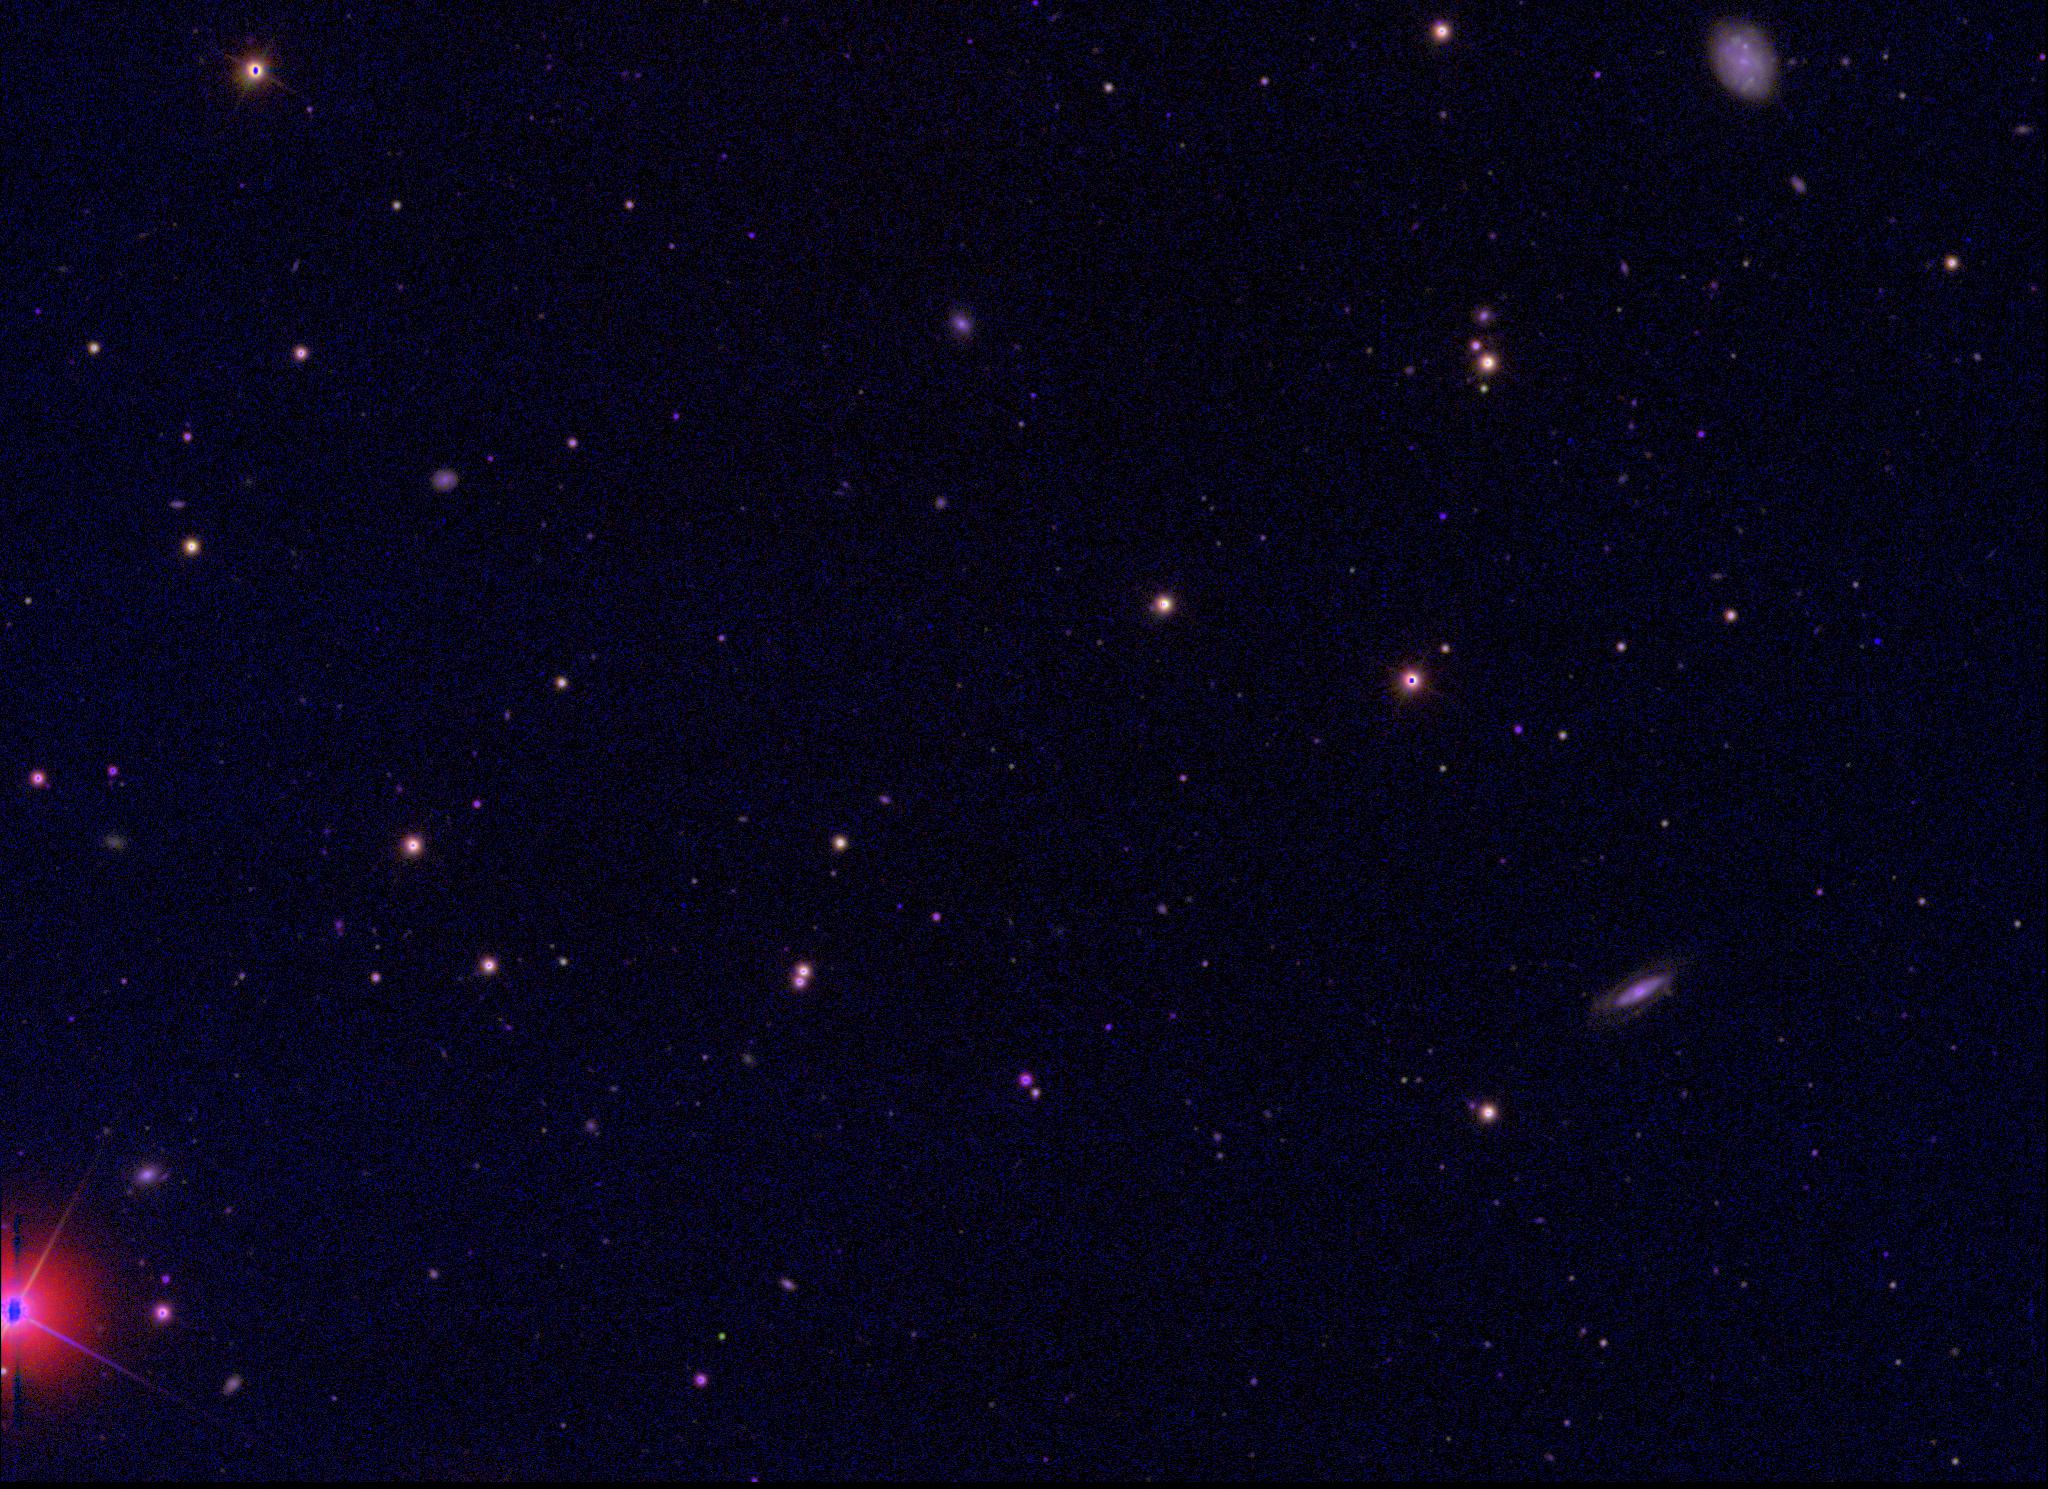L: (1870, 635, 1884, 649)
